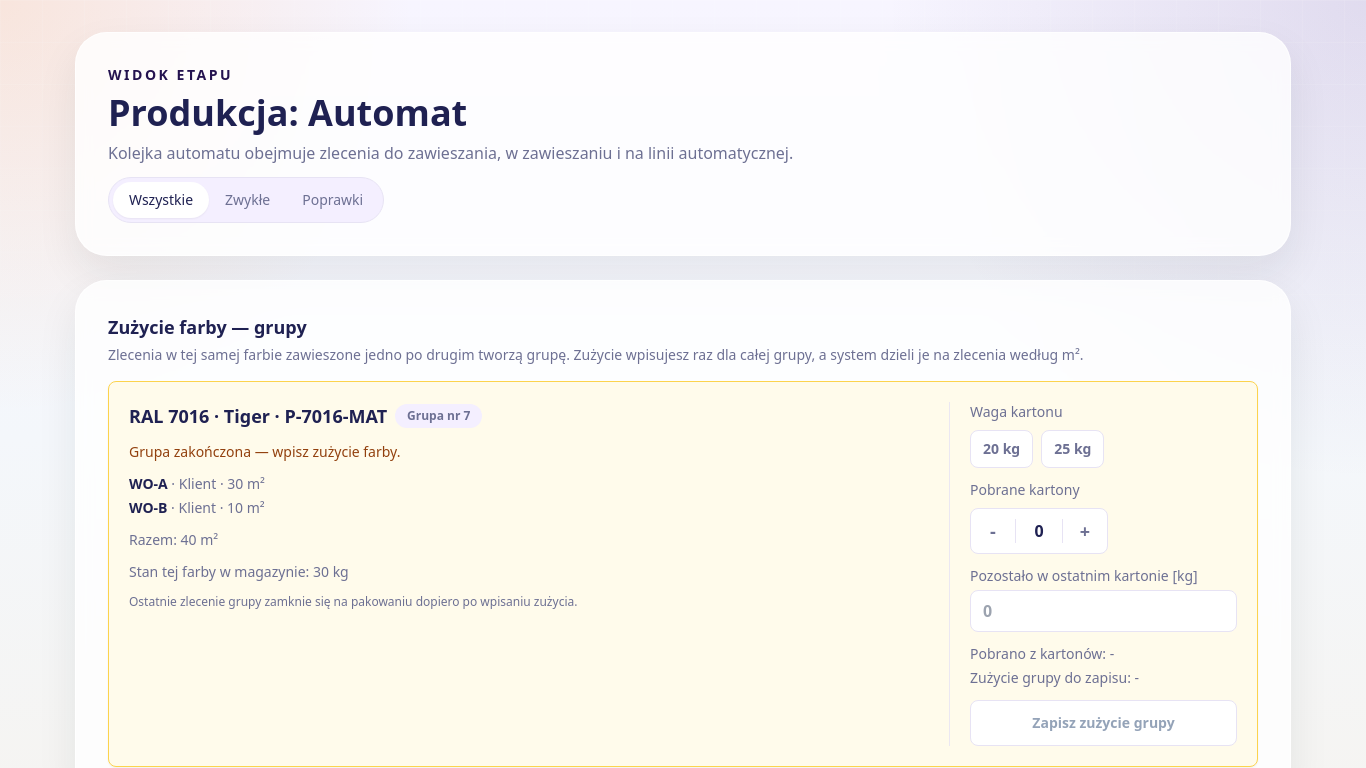
Test: frontend state consistency › records paint consumption once for the whole paint run on the automatic production panel (CHANGES #22)
Check: the text "Grupa zakończona — wpisz zużycie farby." is shown, box 129,442 -> 400,461
Step 1. Click the button "25 kg" → (1073, 449), box 1041,430 -> 1104,468
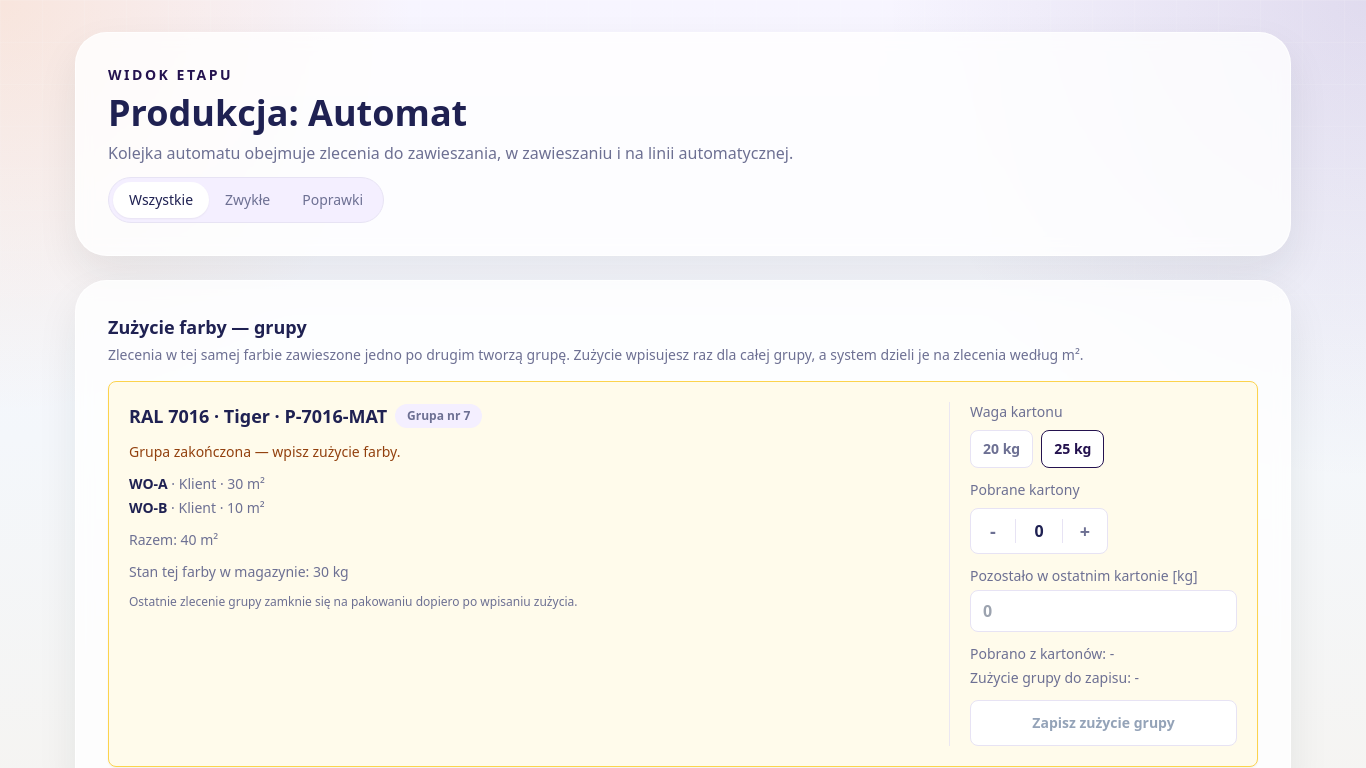
Step 2. Click the button named "Dodaj karton" → (1085, 531), box 1063,509 -> 1107,553
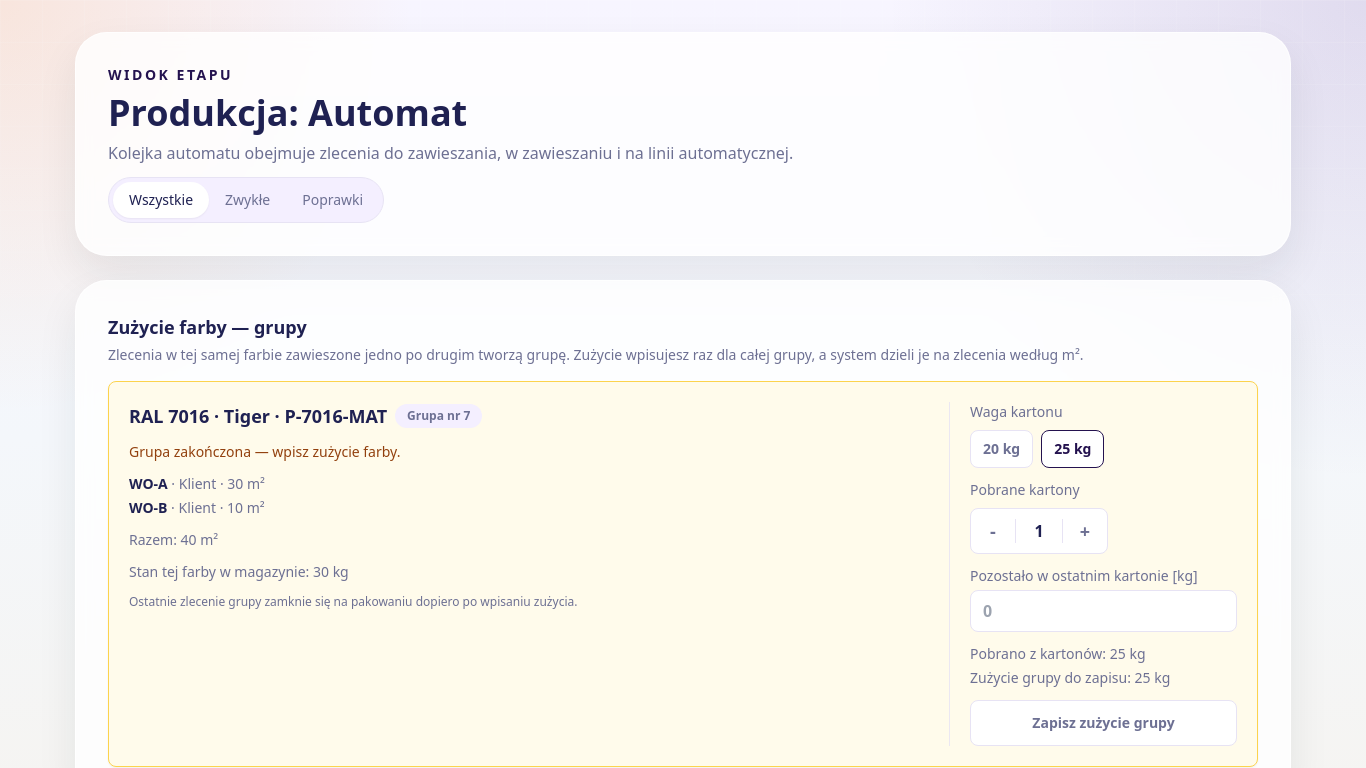
Step 3. Type "12.5" into the number field labelled "Pozostało w ostatnim kartonie [kg]" → (1104, 611), box 970,590 -> 1237,632
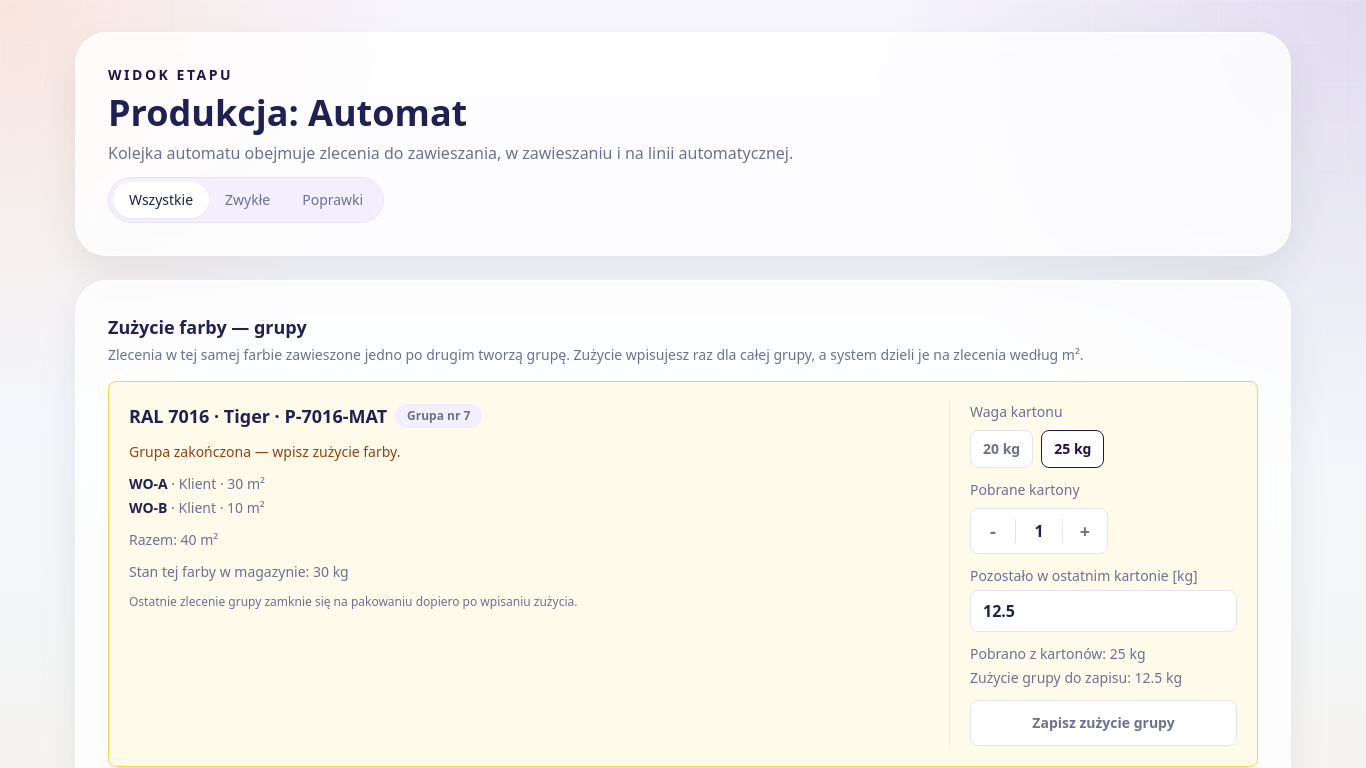
Check: the text "Zużycie grupy do zapisu: 12.5 kg" is shown, box 970,668 -> 1182,687
Step 4. Click the button "Zapisz zużycie grupy" → (1104, 723), box 970,700 -> 1237,746
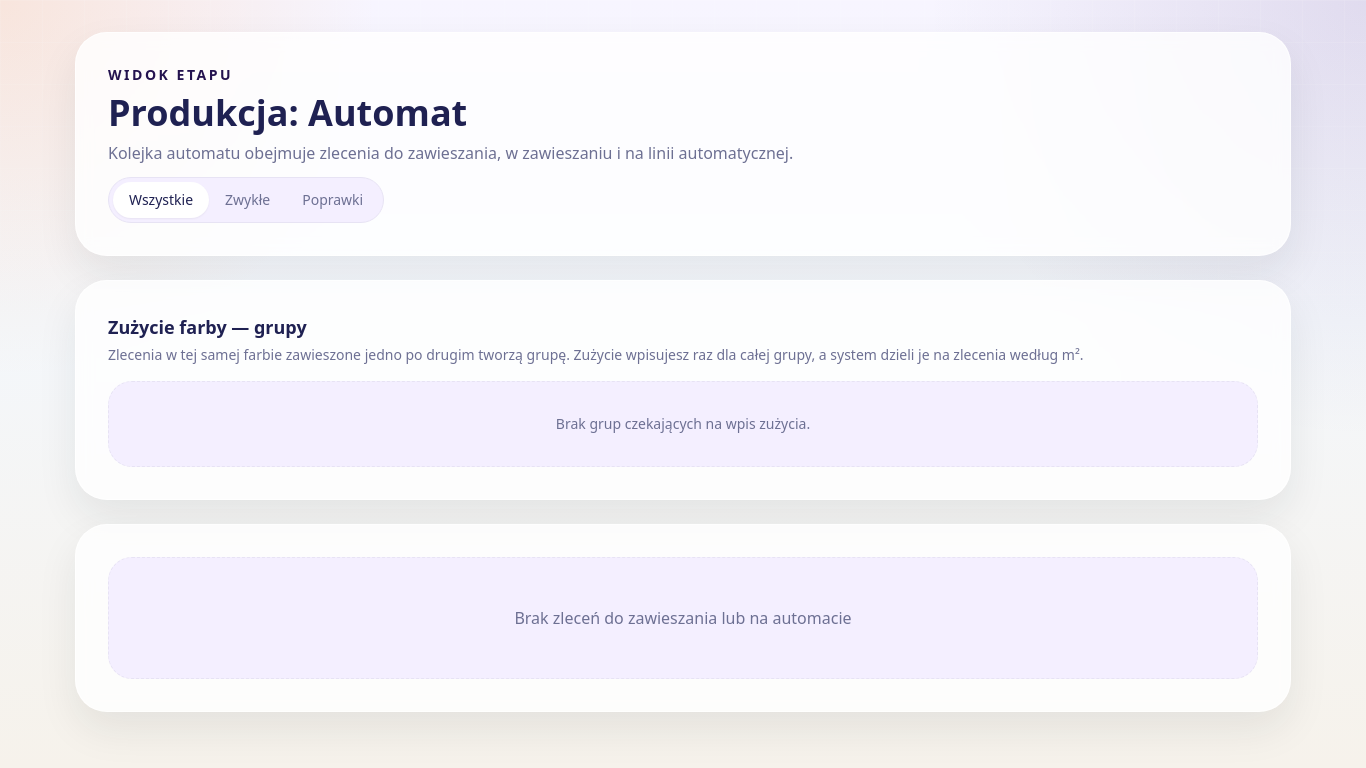
Check: the text "Brak grup czekających na wpis zużycia." is shown, box 108,381 -> 1258,467
